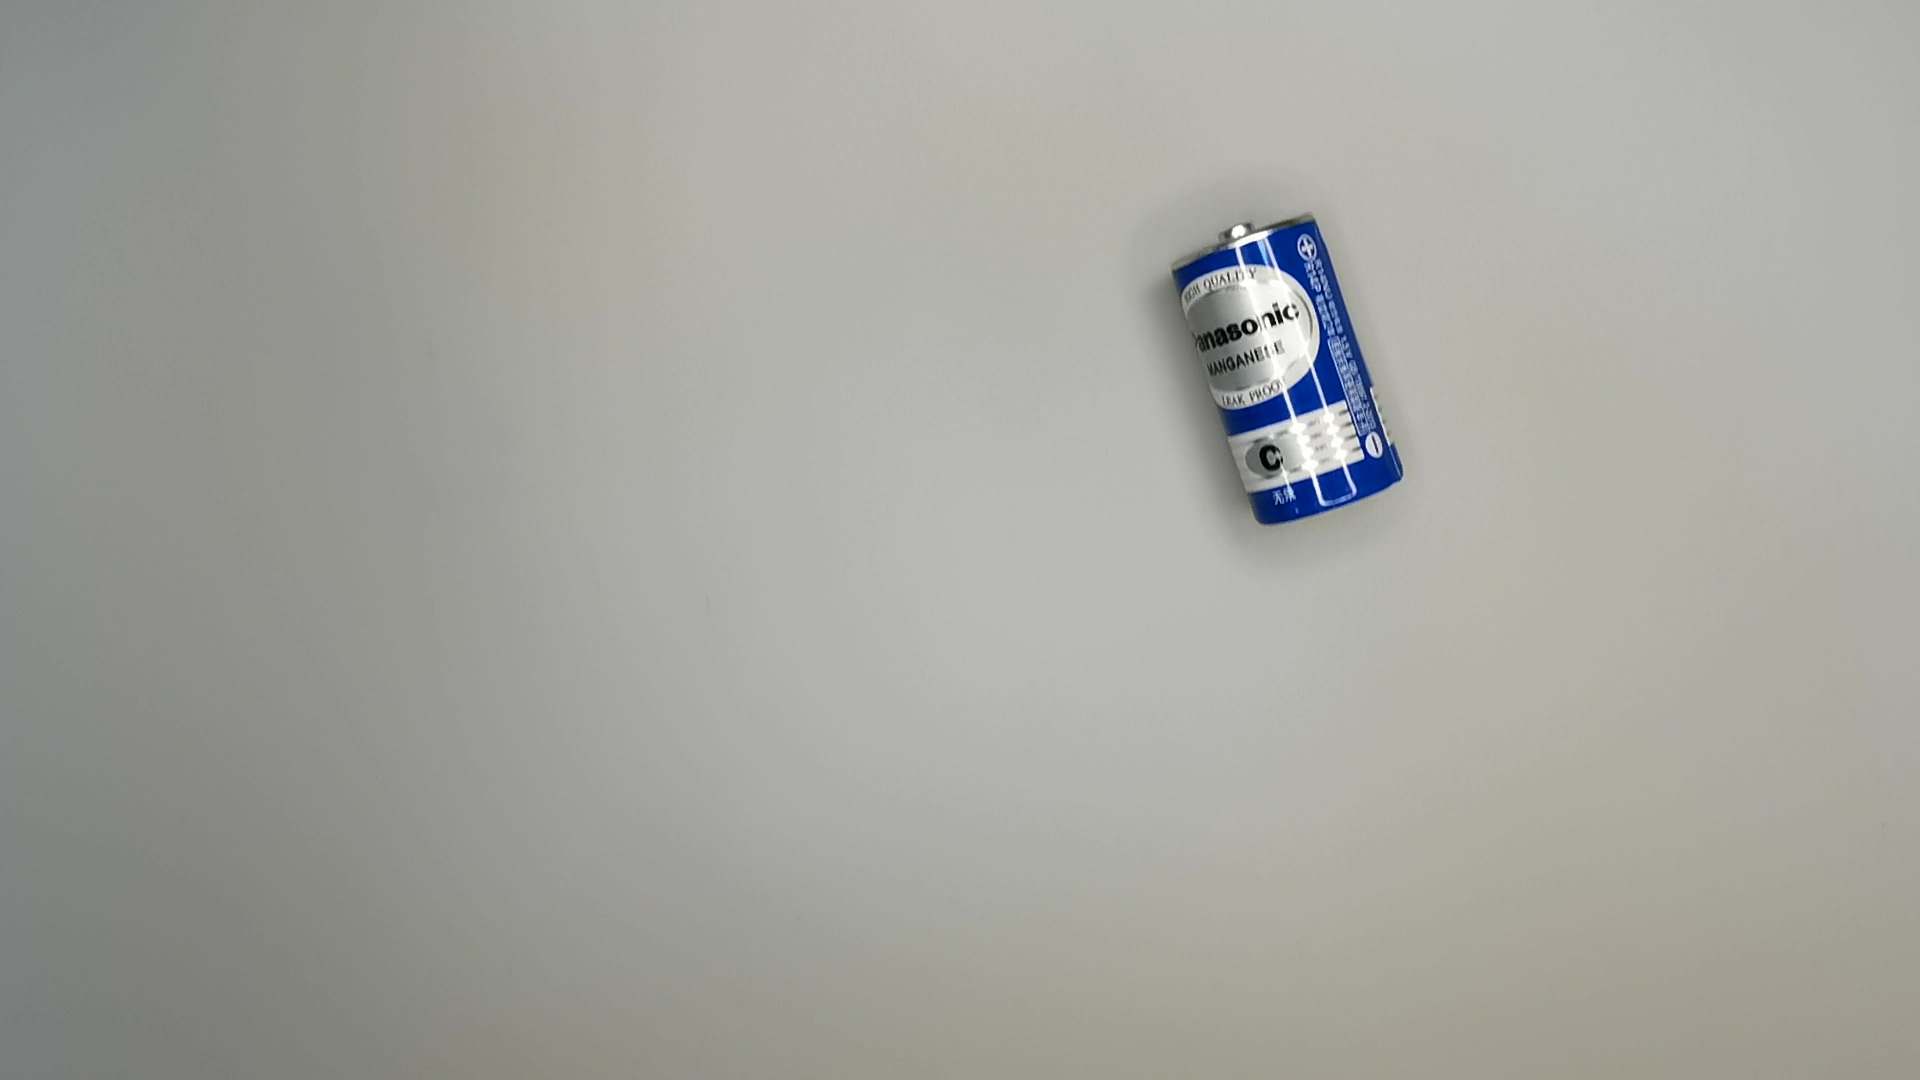battery: (1162, 208, 1415, 538)
